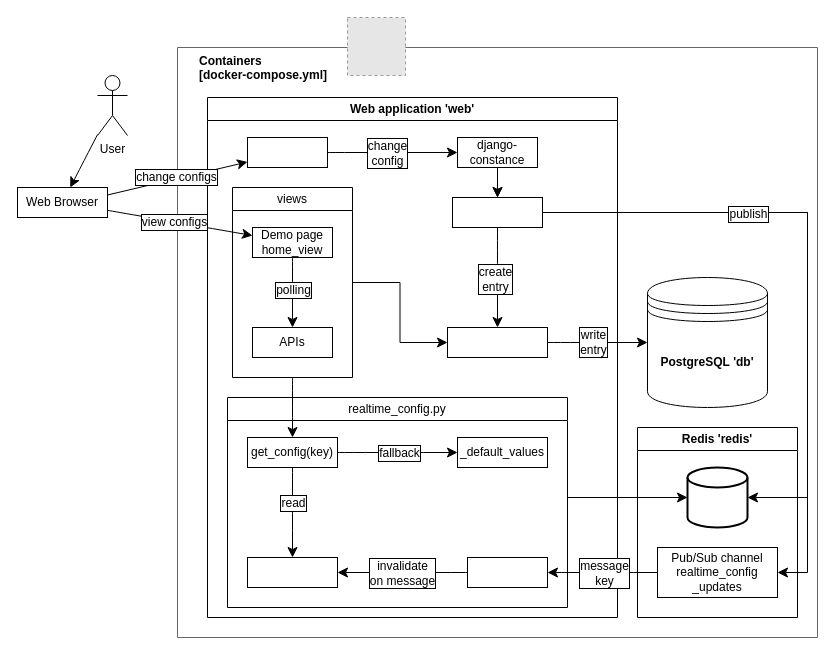
Image size: 835x655. Some labels were removed from this diagram. Grey dashed boxes stand in for pictures. The shapes that lost their labels are listed below. From the top down, each one's centre as x and y in pixels, then its label:
At [287,152]: "Django Admin".
At [497,212]: "config_updated _handler".
At [497,342]: "ConfigChangeLog model".
At [717,497]: "Config storage".
At [292,572]: "local cache".
At [507,572]: "Subscriber thread".
